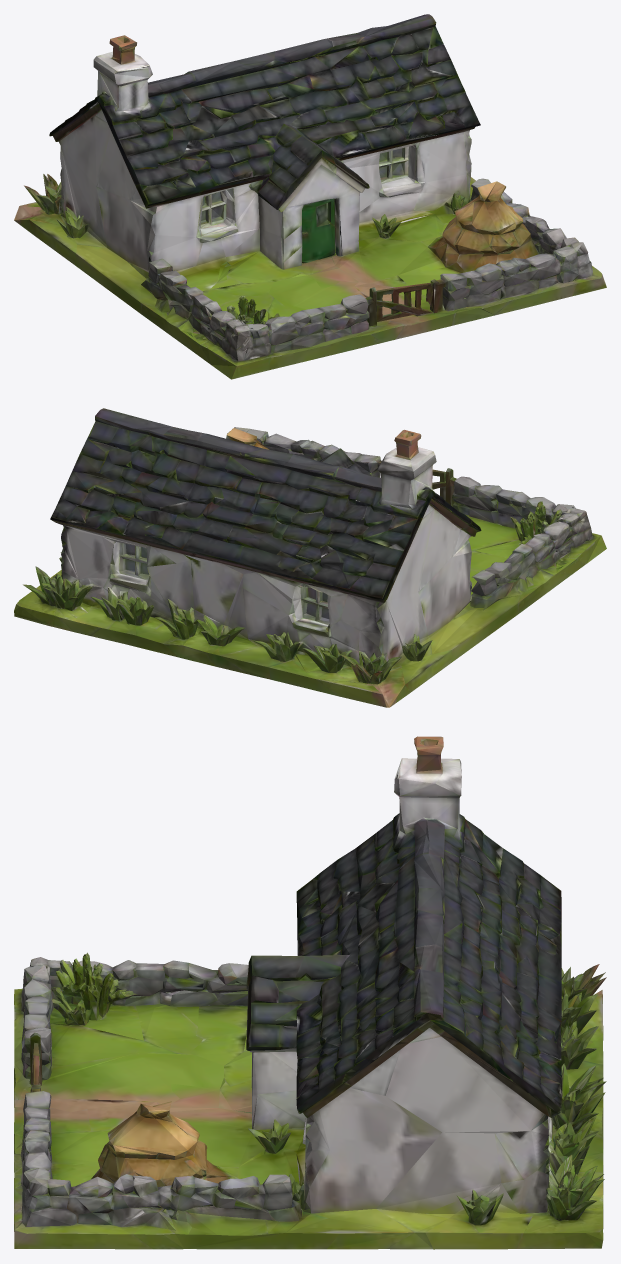
The model's file is town_cottage_old_small_2.glb.
3 renders of one model, top to bottom at view 1: azimuth 30°, elevation 25°; view 2: azimuth 150°, elevation 25°; view 3: azimuth 270°, elevation 25°, orthographic. The views are drawn at different scales.
Parts seen in each view (by area): view 1: normalize; view 2: normalize; view 3: normalize.
Boxes of the visible parts, bbox=[...] form: normalize: bbox=[14, 14, 606, 379]; normalize: bbox=[14, 408, 606, 707]; normalize: bbox=[14, 736, 606, 1249].
Bounding box in the file's own units: 0.9882 × 0.5417 × 1.
1 material, 1 textured.
